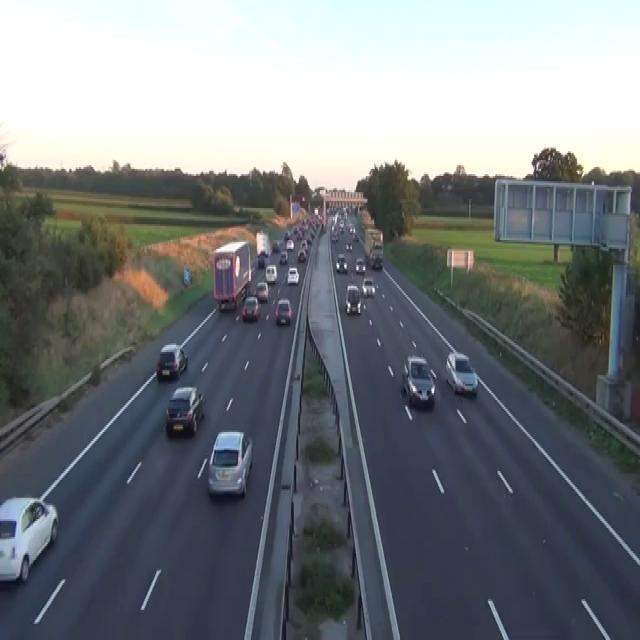Car: (0, 496, 58, 583), (207, 428, 253, 498), (165, 386, 205, 436), (401, 354, 435, 407), (444, 351, 478, 396), (156, 342, 187, 381), (241, 295, 260, 322), (345, 284, 361, 314), (275, 297, 292, 323), (369, 244, 383, 268), (255, 281, 269, 302), (361, 277, 375, 297), (335, 252, 347, 274), (265, 263, 277, 283), (286, 266, 299, 284), (355, 256, 365, 274), (297, 247, 306, 261), (279, 249, 287, 263), (257, 252, 265, 266), (286, 238, 294, 251), (272, 240, 279, 251), (331, 231, 338, 242), (348, 224, 355, 235), (300, 238, 307, 249), (339, 220, 344, 233), (345, 242, 352, 250), (284, 231, 289, 240), (314, 206, 319, 215), (353, 233, 358, 240)
Truck: (212, 240, 251, 311), (364, 228, 383, 268), (256, 229, 271, 267)
